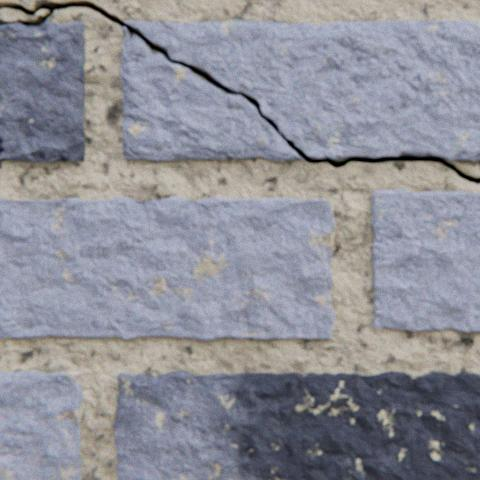brick: (0, 196, 334, 340), (115, 370, 479, 479), (371, 189, 479, 332), (0, 369, 85, 479)
broken_brick: (125, 21, 479, 161), (122, 28, 301, 160), (0, 22, 86, 162)
crack: (0, 1, 479, 185), (0, 135, 4, 156), (0, 160, 4, 169)
